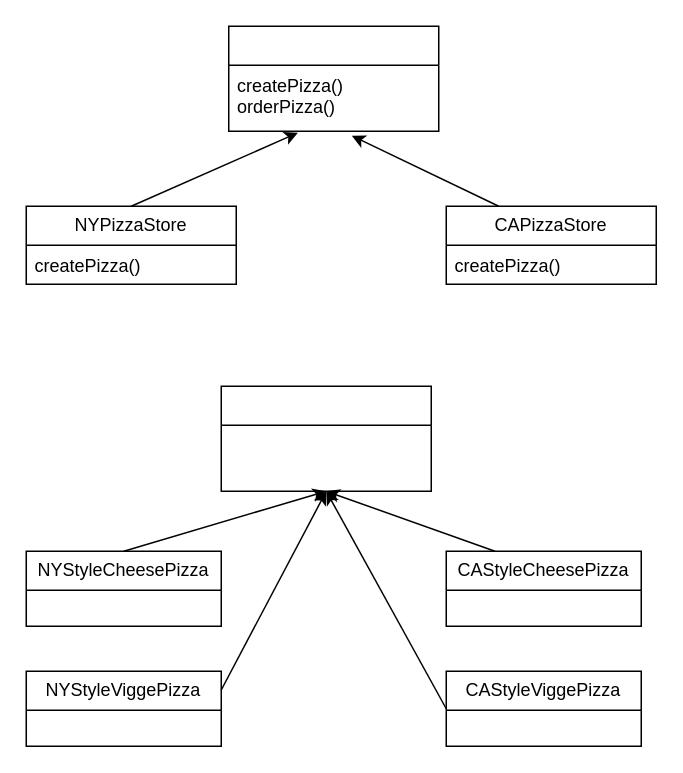
Some shapes in this 683 by 773 pixel diagram are drawn without their labels. Each missing label, with the box of its shape:
Pizza: (220, 385, 431, 491)
PizzaStore: (227, 25, 439, 131)
